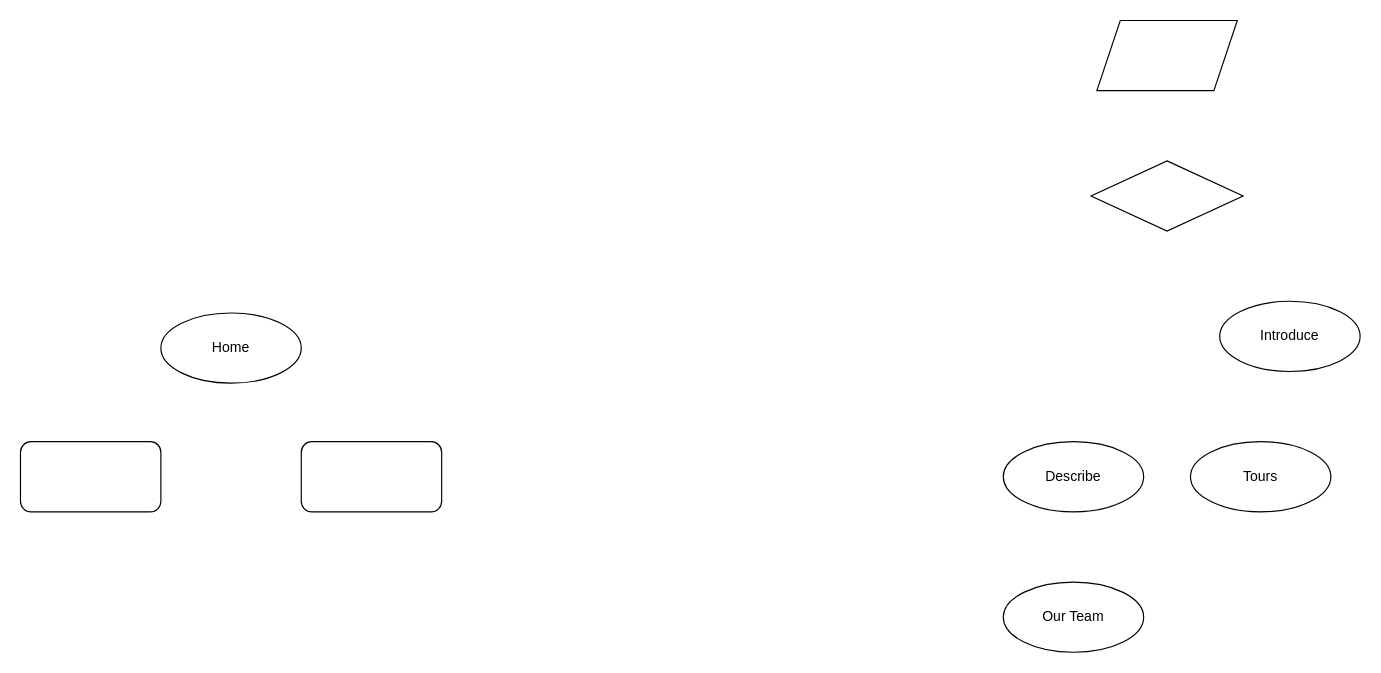
Some shapes in this 1381 by 673 pixel diagram are drawn without their labels. The centre of each missing label's shape, as x and y in pixels:
"Header" belongs at [1166,195].
"TommyTravel" belongs at [1166,55].
